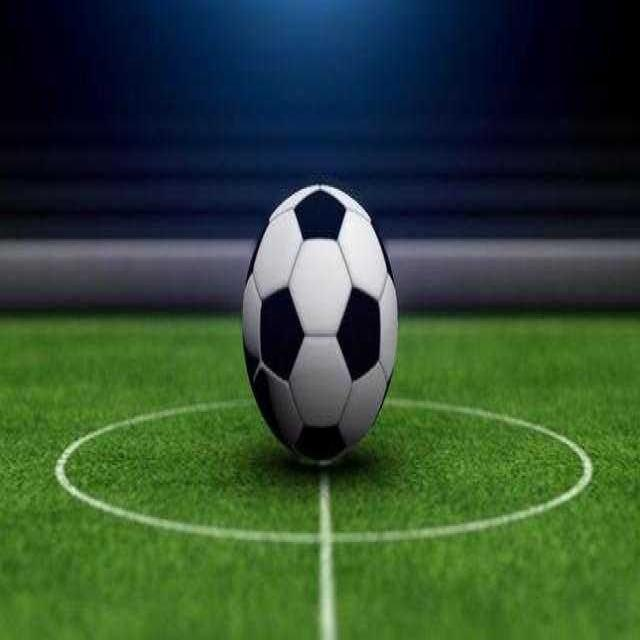ball: (241, 182, 399, 462)
